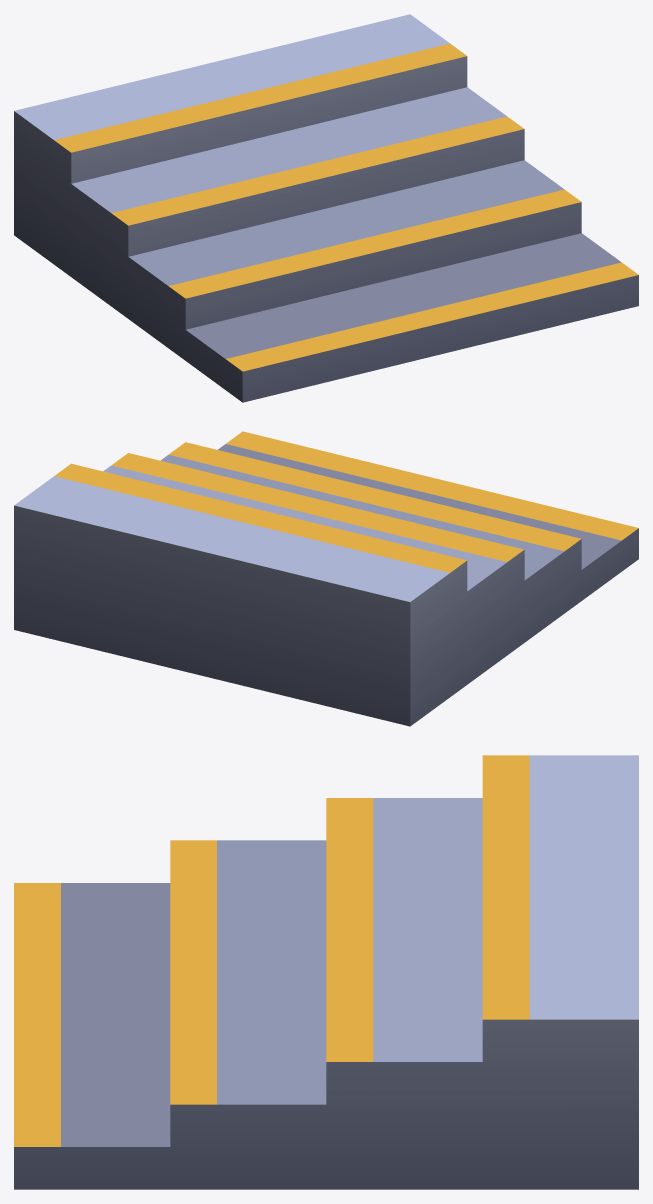
File: stairs.glb
The picture shows the model from 3 angles, top to bottom: view 1: azimuth 30°, elevation 25°; view 2: azimuth 150°, elevation 25°; view 3: azimuth 270°, elevation 25°; orthographic projection. The views are drawn at different scales.
Visible parts, largest first — view 1: stairs; view 2: stairs; view 3: stairs.
Part boxes in pixels (<box>): stairs: <box>14,14,638,402</box>; stairs: <box>14,431,638,726</box>; stairs: <box>14,755,638,1189</box>.
Size of the model in its own units: 1 by 0.3 by 1.
1 material, 1 textured.
